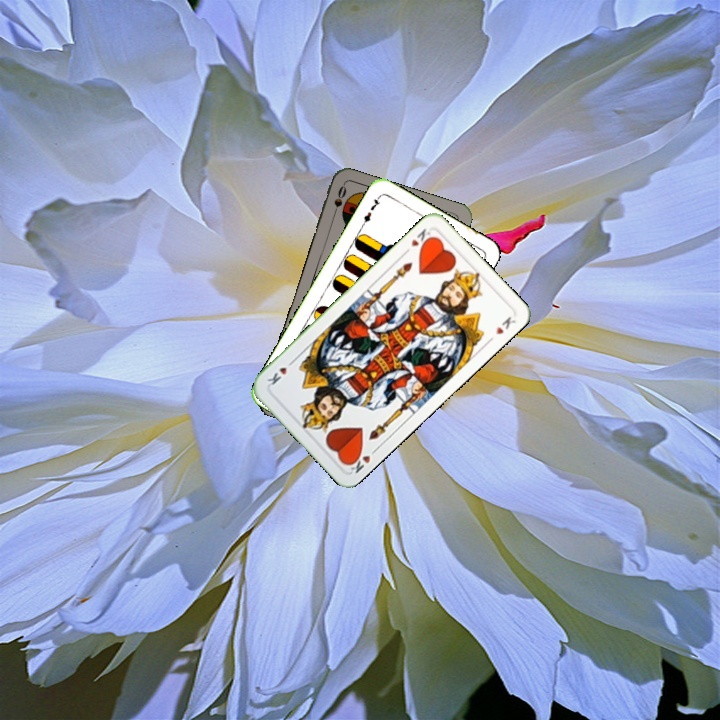E7: (358, 192, 383, 229)
HK: (344, 444, 381, 476), (407, 224, 435, 252)
SO: (328, 182, 349, 221)
